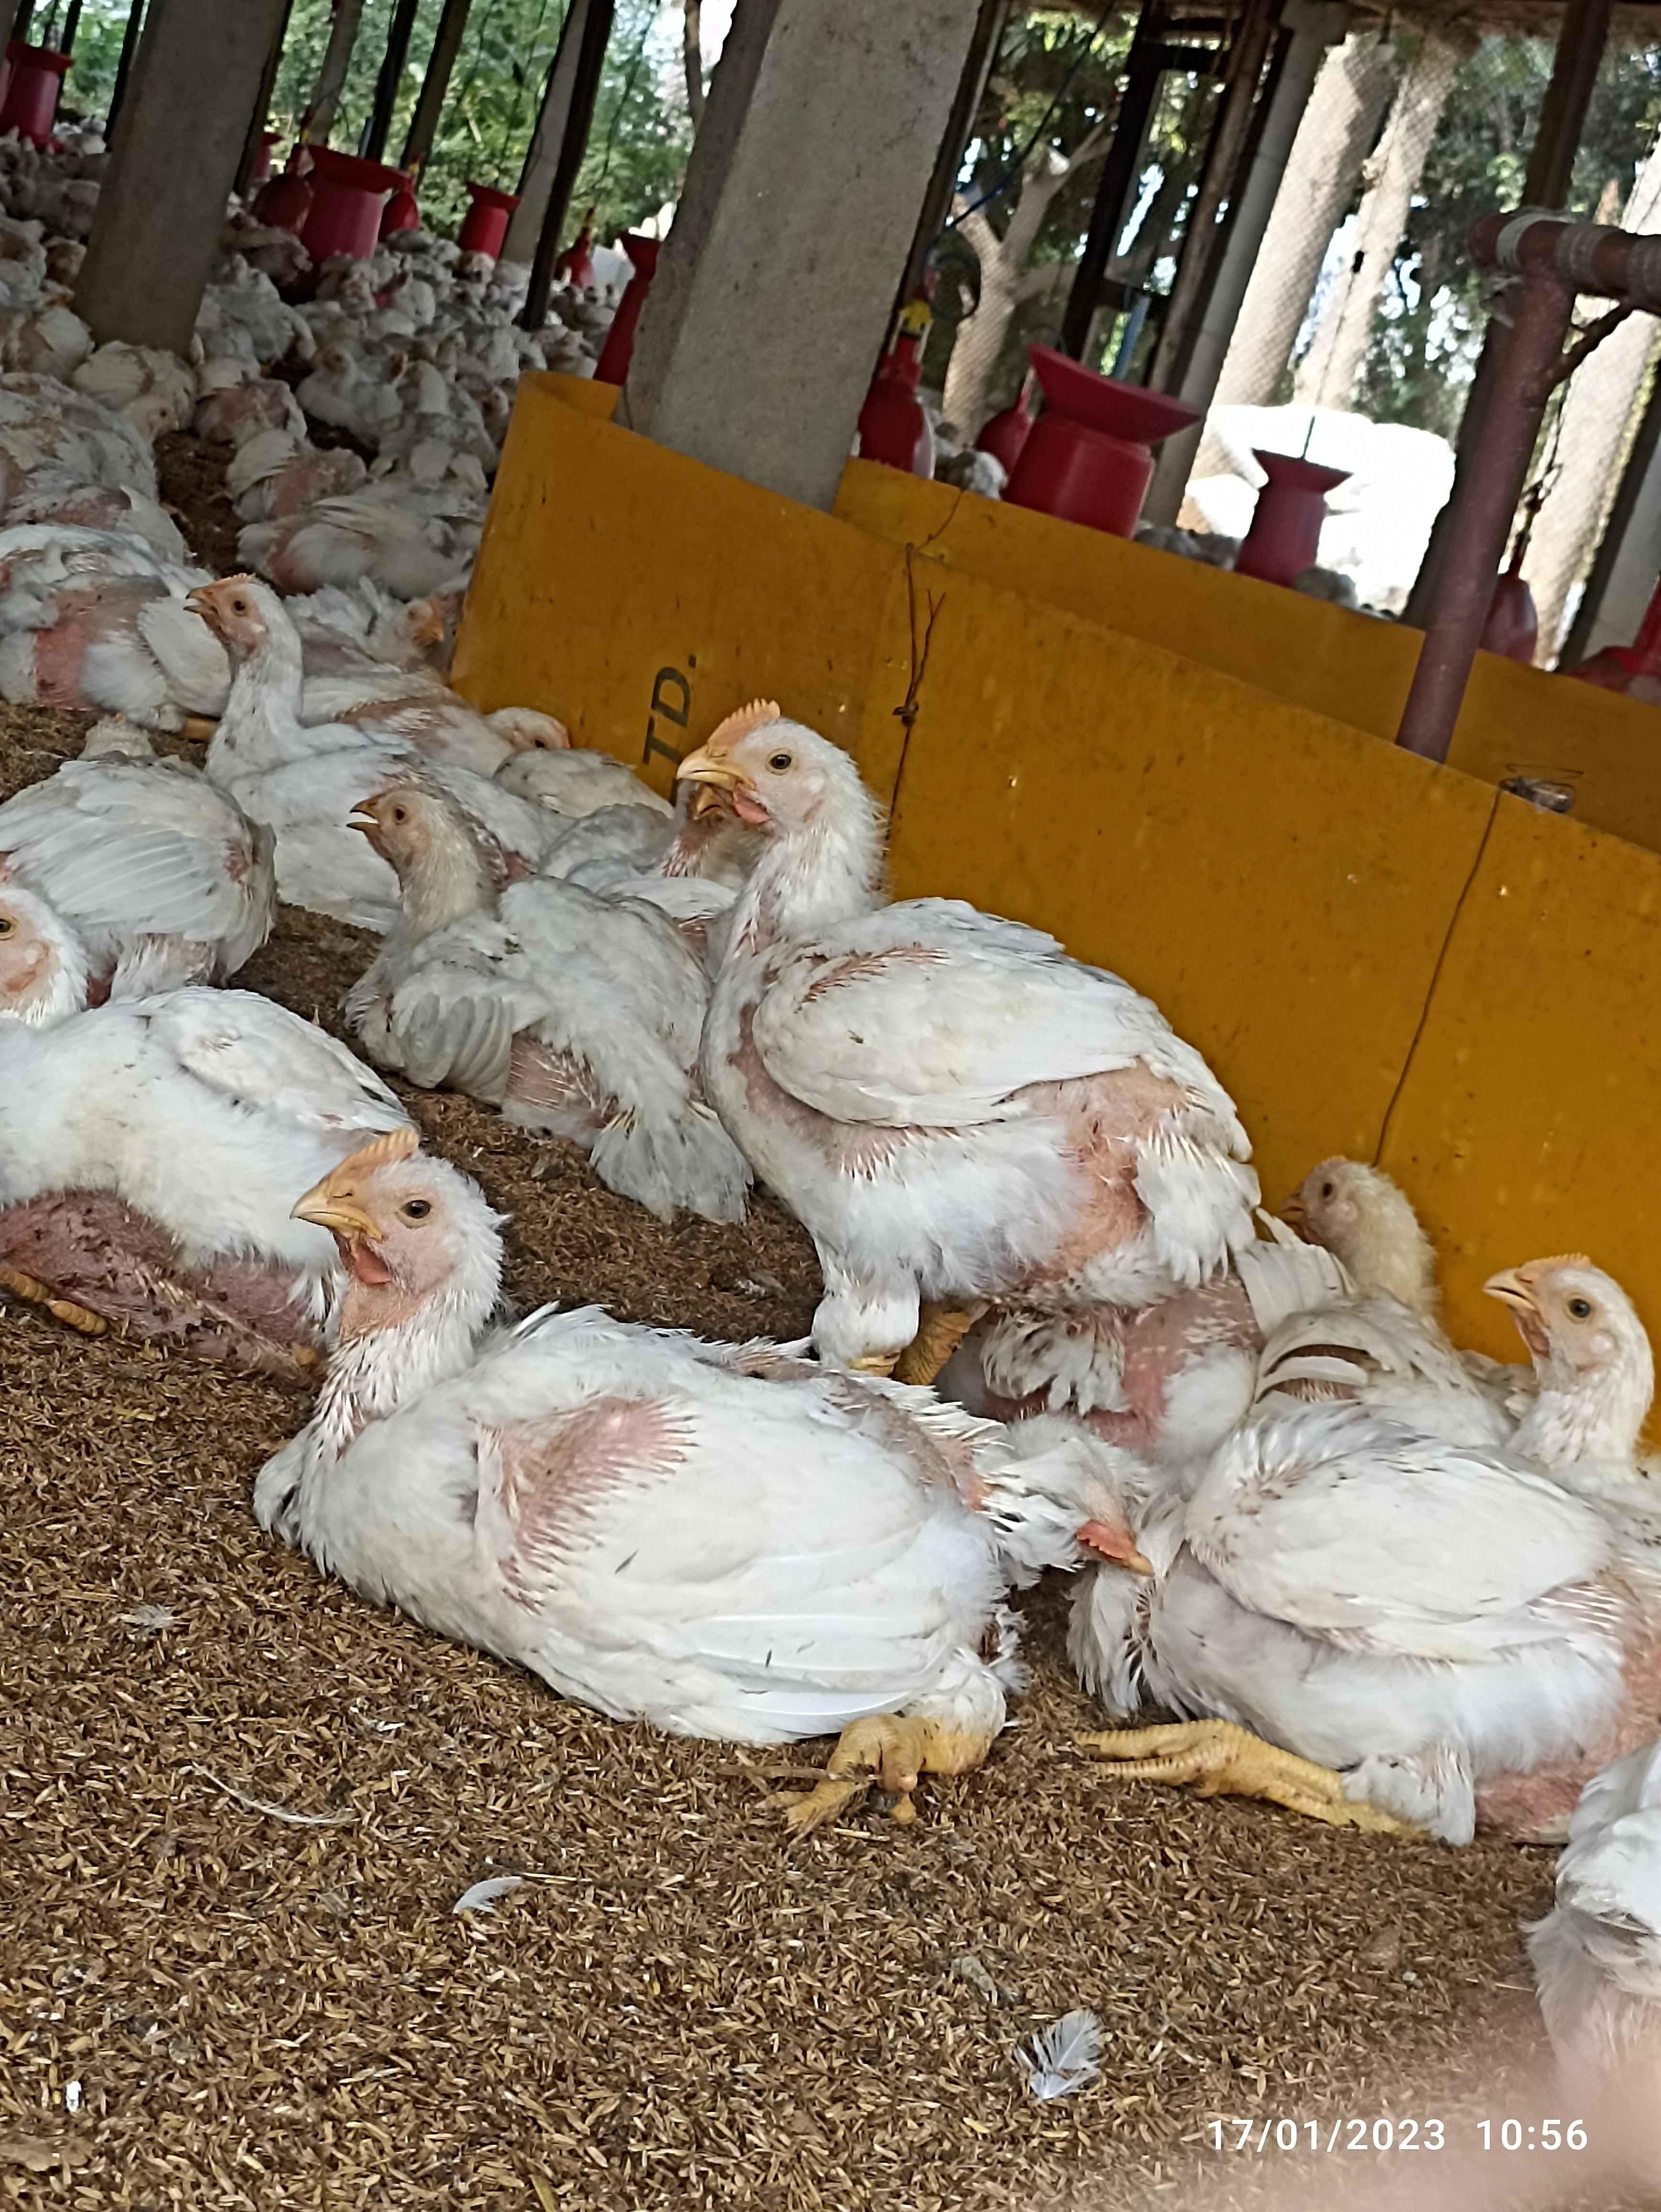Pollos: (288, 1139, 1003, 1710), (684, 691, 1234, 1272), (1148, 1240, 1661, 1793), (0, 886, 309, 1282), (342, 782, 673, 1092), (180, 579, 312, 745)
